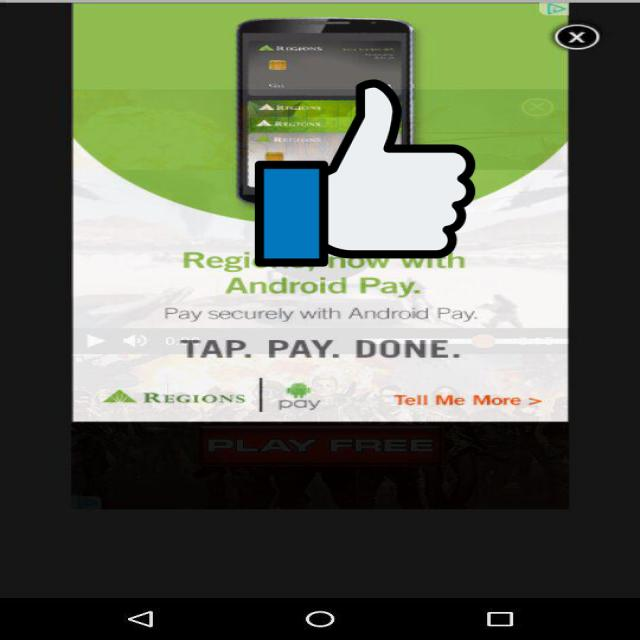privacy zuckering: (255, 75, 475, 271)
